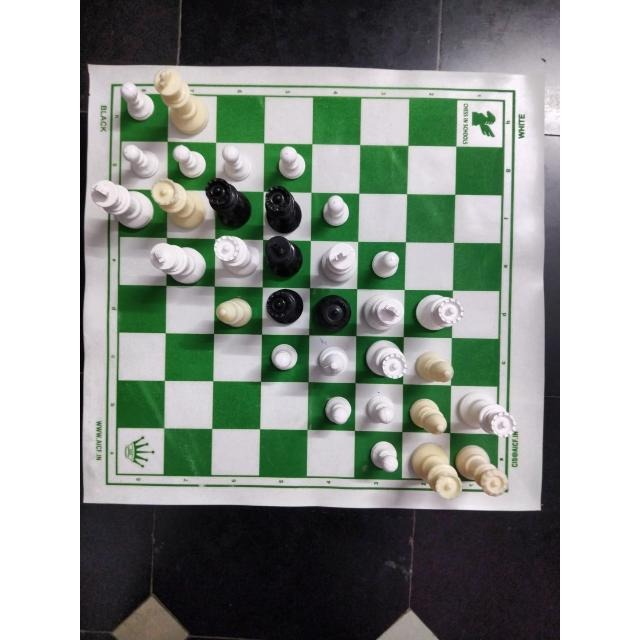black-king: (262, 234, 308, 286)
black-queen: (204, 178, 254, 230), (258, 184, 306, 236), (259, 287, 309, 328), (312, 291, 354, 334)
white-bishop: (403, 393, 450, 441), (412, 346, 456, 387), (209, 295, 256, 332), (311, 342, 349, 382)
white-king: (148, 64, 212, 133), (87, 179, 157, 231), (146, 238, 209, 286), (310, 239, 357, 289), (359, 291, 407, 334)
white-pawn: (114, 77, 156, 130), (215, 144, 259, 184), (364, 433, 402, 478), (168, 141, 212, 179), (317, 389, 355, 431), (119, 143, 162, 179), (360, 392, 400, 430), (366, 247, 404, 283), (264, 338, 301, 374), (273, 144, 307, 182), (318, 194, 352, 230)
white-queen: (404, 434, 464, 505), (145, 180, 211, 232), (457, 388, 518, 442), (453, 443, 509, 500), (409, 291, 467, 340), (211, 231, 260, 281), (359, 340, 409, 384)
